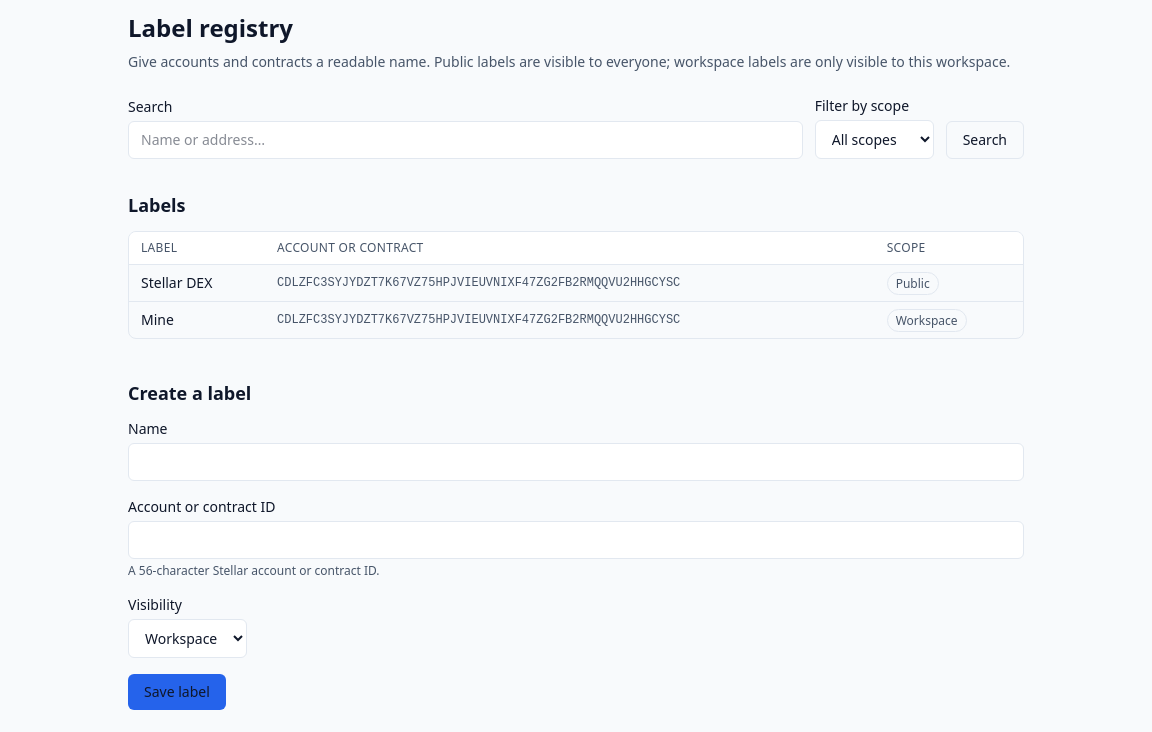
Scenario: Label registry page › filters the list by scope without another request
Expected: the number of rows with test id "label-row" is 2, x1=129 y1=264 x2=1023 y2=302; x1=129 y1=302 x2=1023 y2=338
Select "Workspace" in the dropdown labelled "Filter by scope" at (874, 140), box x1=815 y1=120 x2=934 y2=159
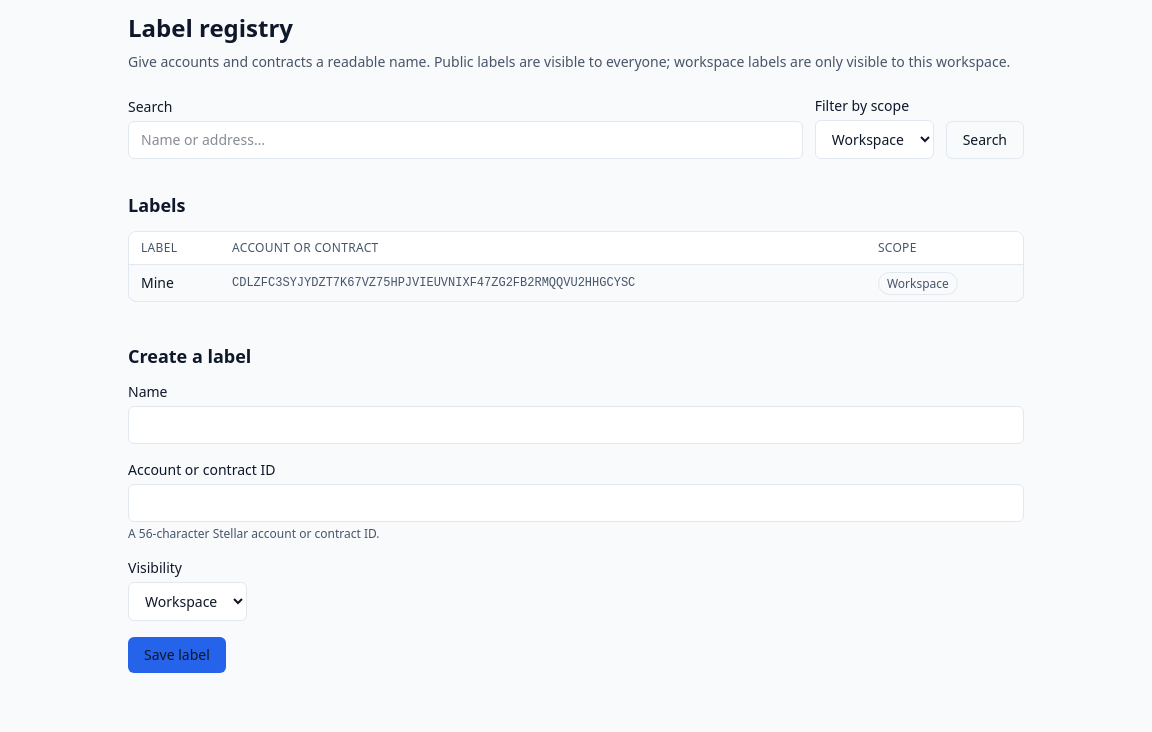
Expected: the row with test id "label-row" shows "Mine", x1=141 y1=273 x2=174 y2=292
Expected: the number of rows with test id "label-row" is 1, x1=129 y1=264 x2=1023 y2=301
